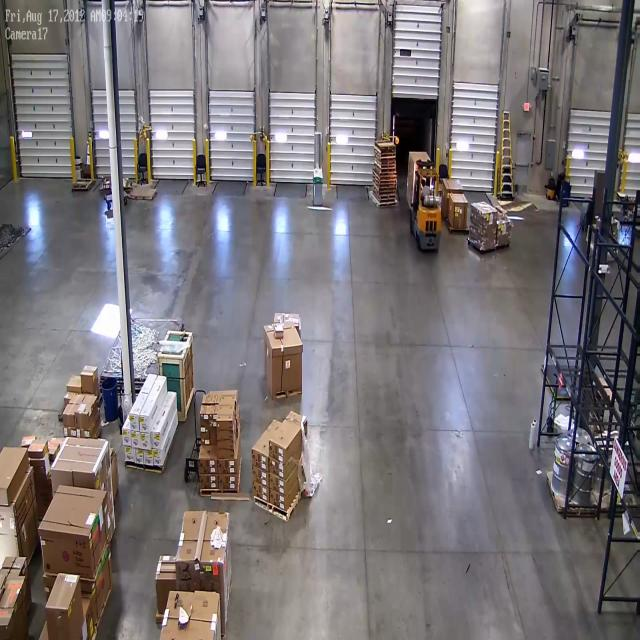human: (419, 178, 432, 201)
product 1: (175, 510, 231, 570), (11, 464, 42, 564), (264, 325, 306, 398), (162, 589, 218, 640), (48, 438, 110, 482), (90, 539, 120, 628), (85, 491, 116, 577), (469, 221, 498, 253), (468, 200, 498, 227), (110, 446, 122, 506), (440, 175, 466, 196), (449, 190, 470, 212), (407, 150, 433, 167), (274, 314, 302, 329), (498, 220, 513, 245)
product 2: (273, 324, 284, 337)
product 3: (151, 432, 162, 452), (129, 414, 140, 433), (152, 449, 163, 466), (134, 448, 144, 465), (140, 432, 149, 450), (144, 449, 154, 465), (131, 431, 140, 448), (140, 417, 150, 432), (122, 427, 130, 445), (125, 447, 134, 463)
product 4: (218, 458, 239, 478), (253, 482, 271, 505), (269, 441, 286, 465), (80, 402, 95, 425), (199, 458, 218, 476), (81, 364, 101, 381), (60, 404, 77, 424), (493, 203, 509, 224), (270, 476, 288, 494), (270, 458, 286, 478), (270, 490, 286, 510), (252, 468, 269, 486), (252, 449, 267, 469), (201, 474, 218, 489), (66, 374, 82, 389), (61, 390, 82, 401), (22, 436, 38, 450), (200, 407, 220, 418), (40, 456, 51, 476), (61, 424, 76, 438), (220, 476, 237, 488), (217, 430, 234, 442), (78, 429, 92, 442), (202, 394, 220, 404), (217, 403, 236, 412), (40, 440, 49, 459), (52, 440, 61, 459), (217, 440, 234, 450), (218, 421, 234, 430), (219, 394, 237, 402), (217, 451, 236, 458), (197, 436, 210, 446), (200, 414, 210, 424), (209, 432, 217, 444), (200, 427, 208, 436), (209, 423, 218, 430), (209, 414, 218, 421)
product 5: (0, 444, 28, 505), (45, 574, 79, 619), (1, 578, 31, 618), (70, 596, 97, 640), (154, 552, 181, 588), (1, 552, 26, 578), (0, 607, 18, 636)
